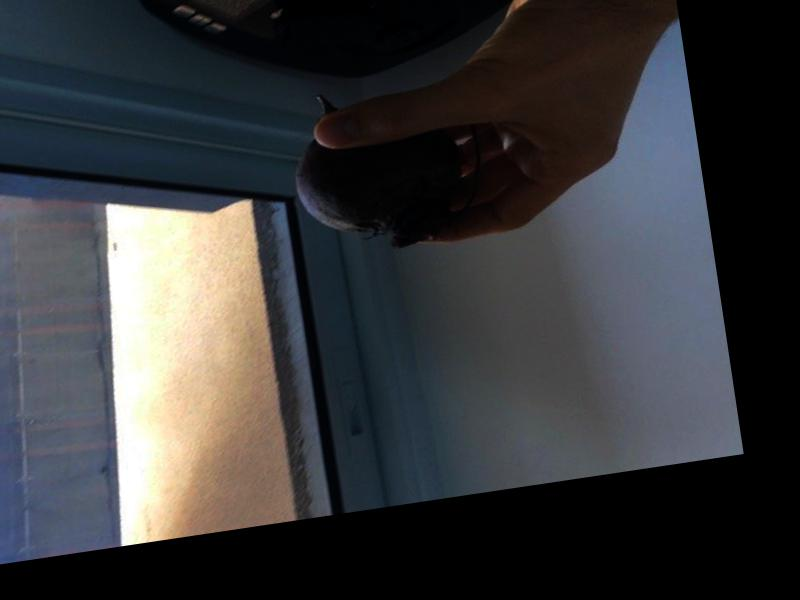Beet: (283, 73, 489, 261)
